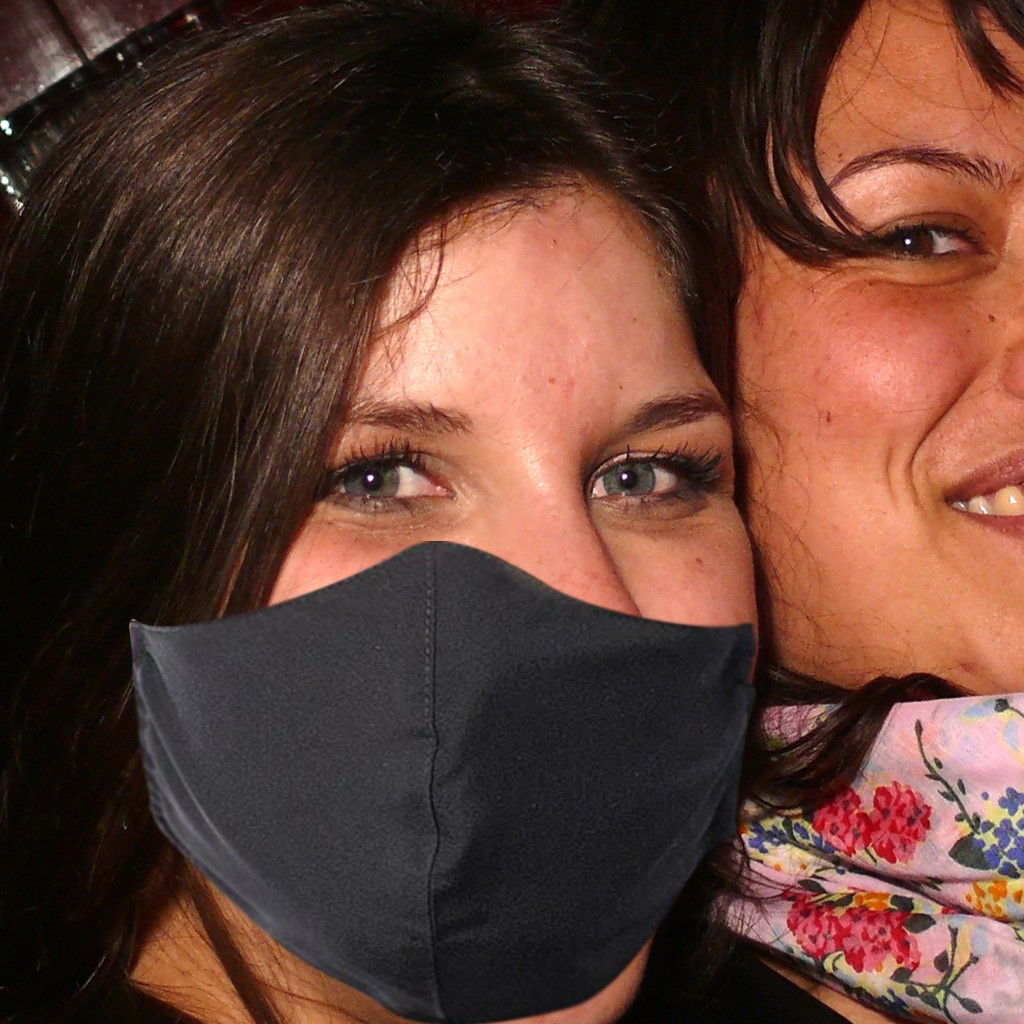con_mascara: (117, 188, 770, 1011)
